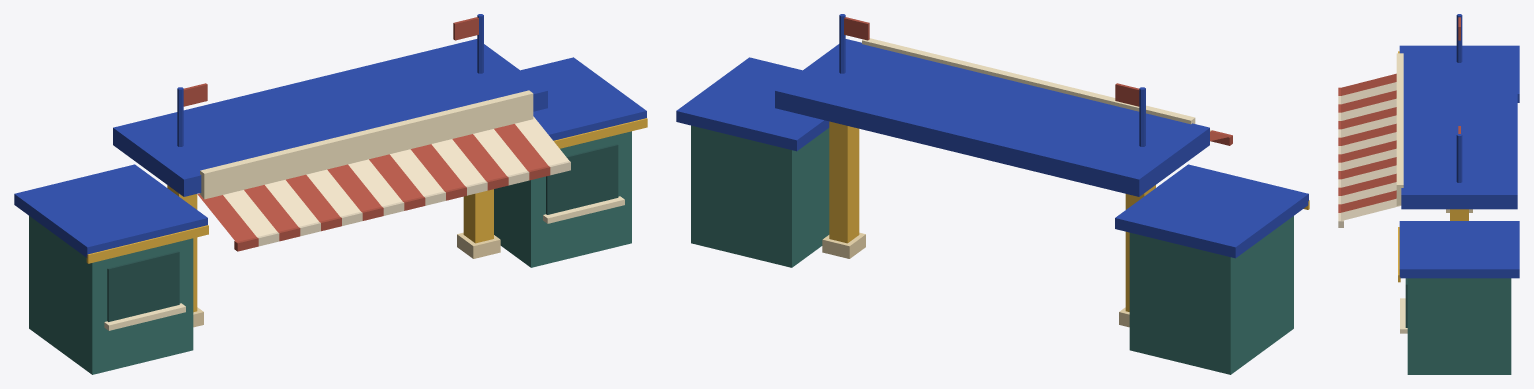
File: entry.glb
The picture shows the model from 3 angles, left to right: view 1: azimuth 30°, elevation 25°; view 2: azimuth 150°, elevation 25°; view 3: azimuth 270°, elevation 25°; orthographic projection. The views are drawn at different scales.
Visible parts, largest first — view 1: entry; view 2: entry; view 3: entry.
Part boxes in pixels (x1,y1,x2,y2): entry: (14, 14, 647, 374); entry: (676, 14, 1309, 374); entry: (1338, 14, 1519, 374).
Bounding box in the file's own units: 12.75 × 5.1 × 4.36.
